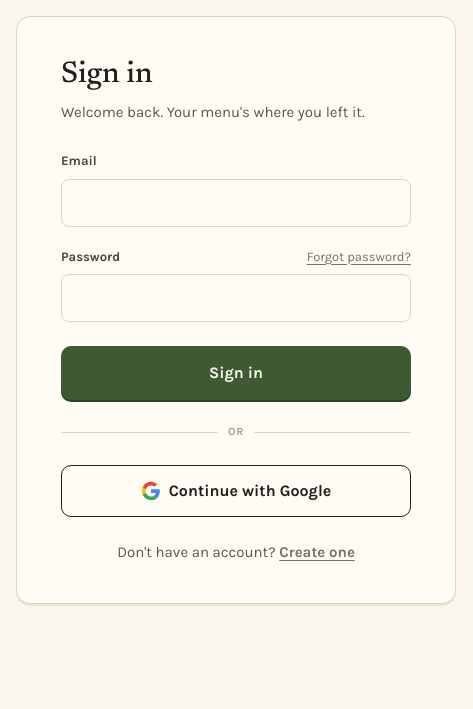
LoginPage › offers Google sign-in from the banner for a Google account
Type "jamie@example.com" into the field labelled "Email".
click(236, 202); type("jamie@example.com")  # box [61,178,411,226]
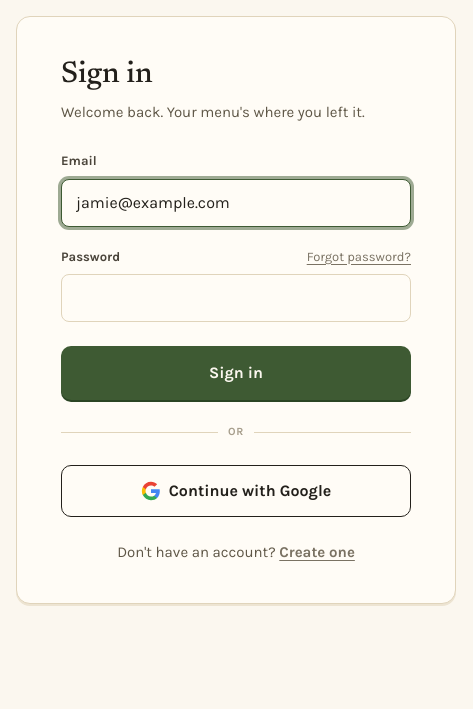
Type "anything-at-all" into the password field labelled "Password".
click(236, 298); type("anything-at-all")  # box [61,274,411,322]
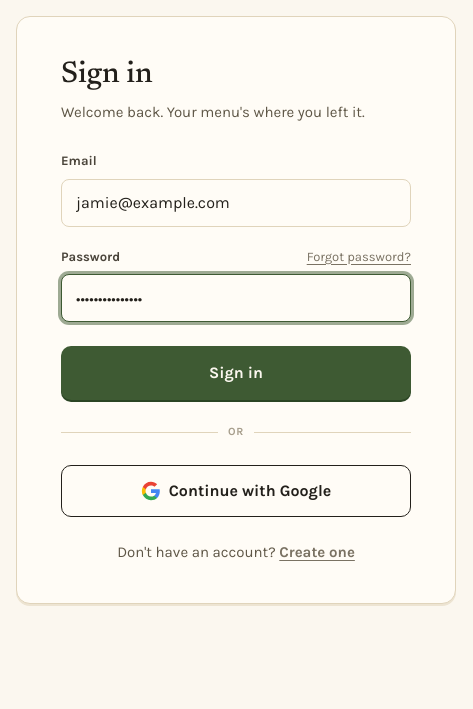
Click the button "Sign in".
click(236, 373)  # box [61,346,411,400]
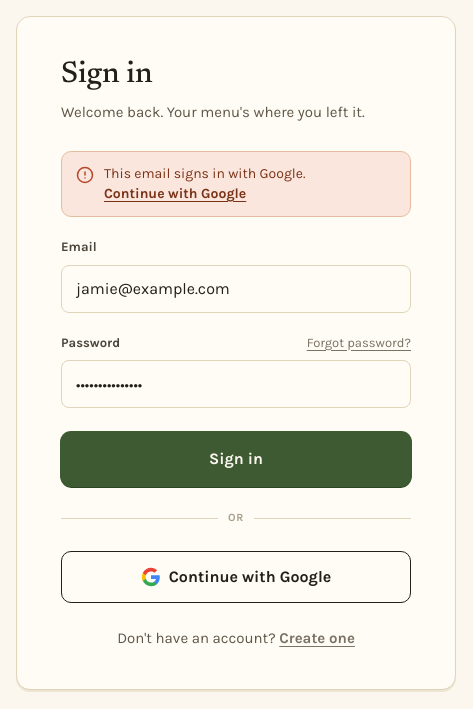
Expected: the message shows "This email signs in with Google.", [104,165,305,182]
Expected: the button "Continue with Google" below "This email signs in with Google." is shown, [104,184,246,204]
